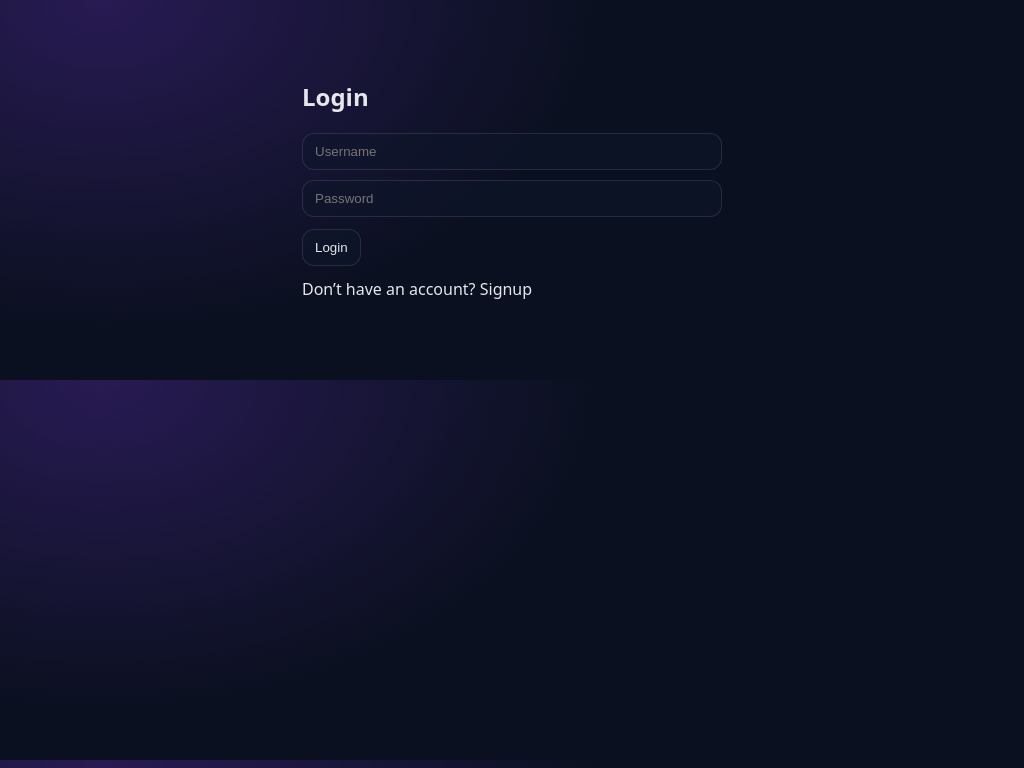
Test case: Login page › shows wrong password error
Type "testuser" into the field at (512, 151), box [302,133,722,170]
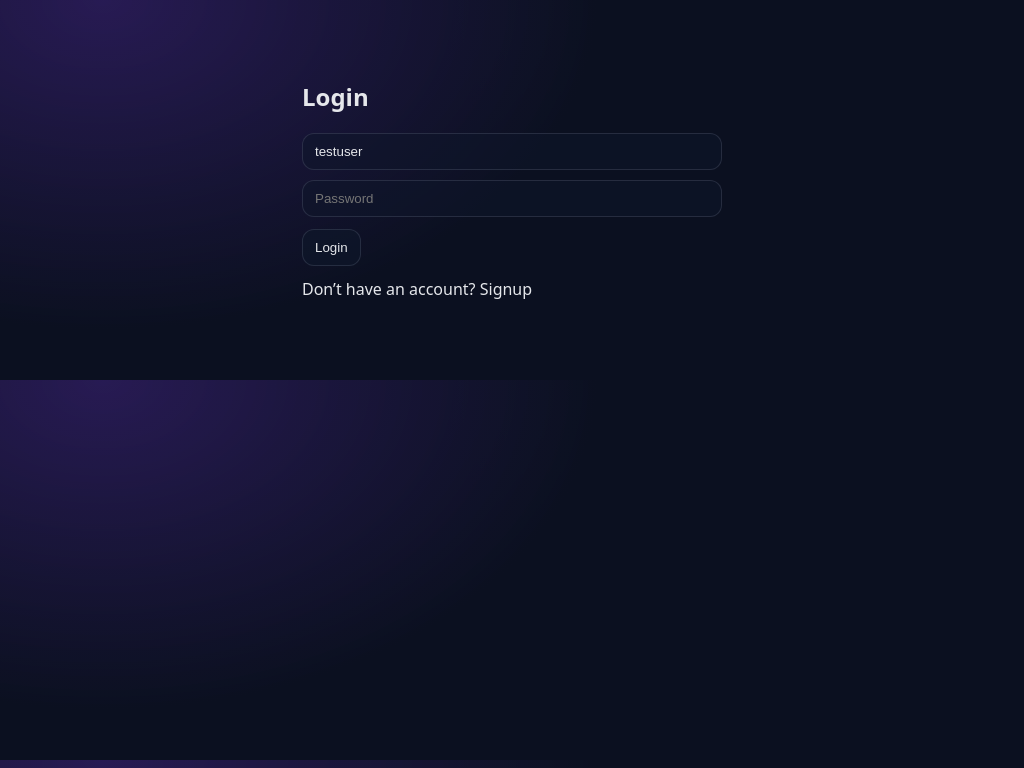
Type "wrongpass" into the password field with placeholder "Password" at (512, 198), box [302,180,722,217]
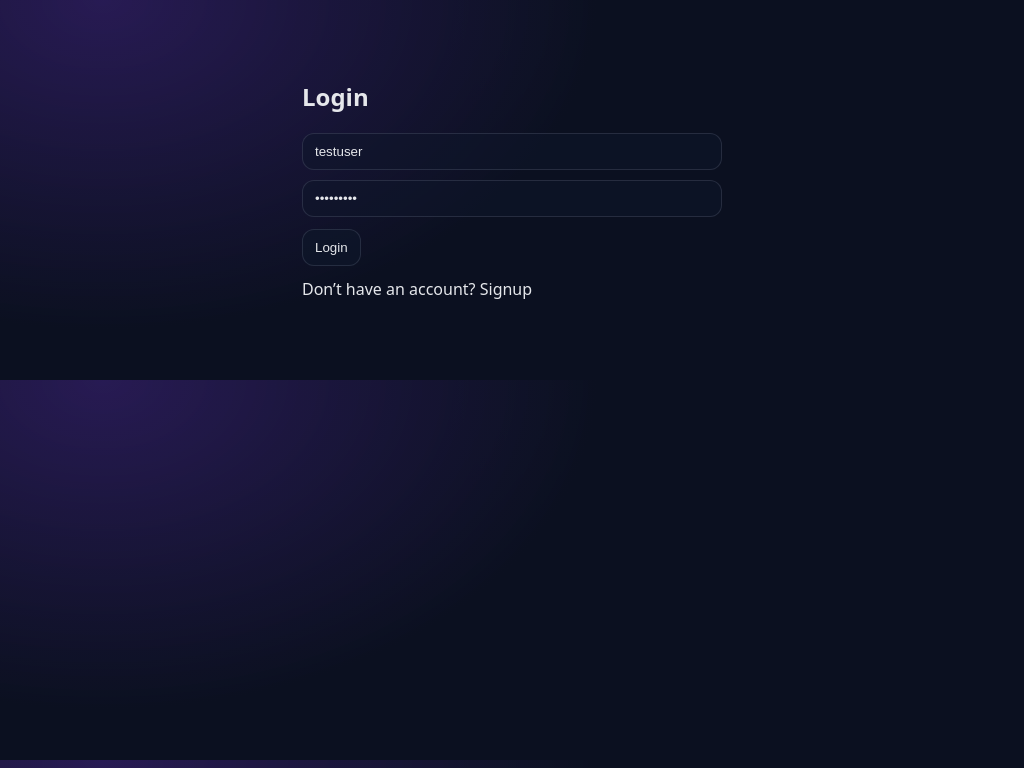
Click the button "Login" at (331, 247), box [302,229,361,266]
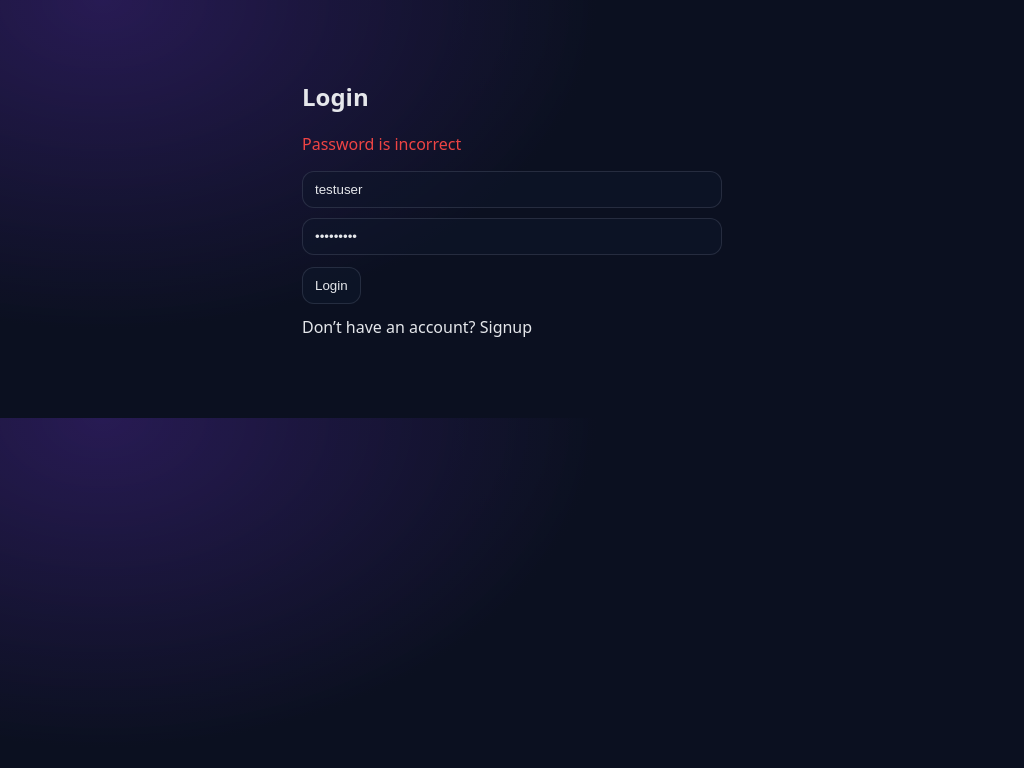
Expected: the text "Password is incorrect" is shown, [302,133,461,155]
